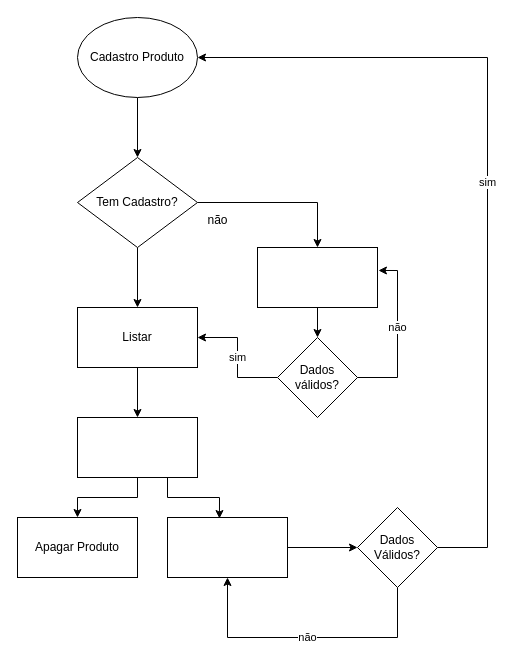
This 513x663 diagram has some shape labels left out. The box of each missing label's shape, as (x1, y1, x2, y2) in pixels:
Atualizar Produto: (166, 516, 288, 578)
Buscar Produto: (76, 416, 198, 478)
Criar cadastro (nome,telefone, endereço): (256, 246, 378, 308)
